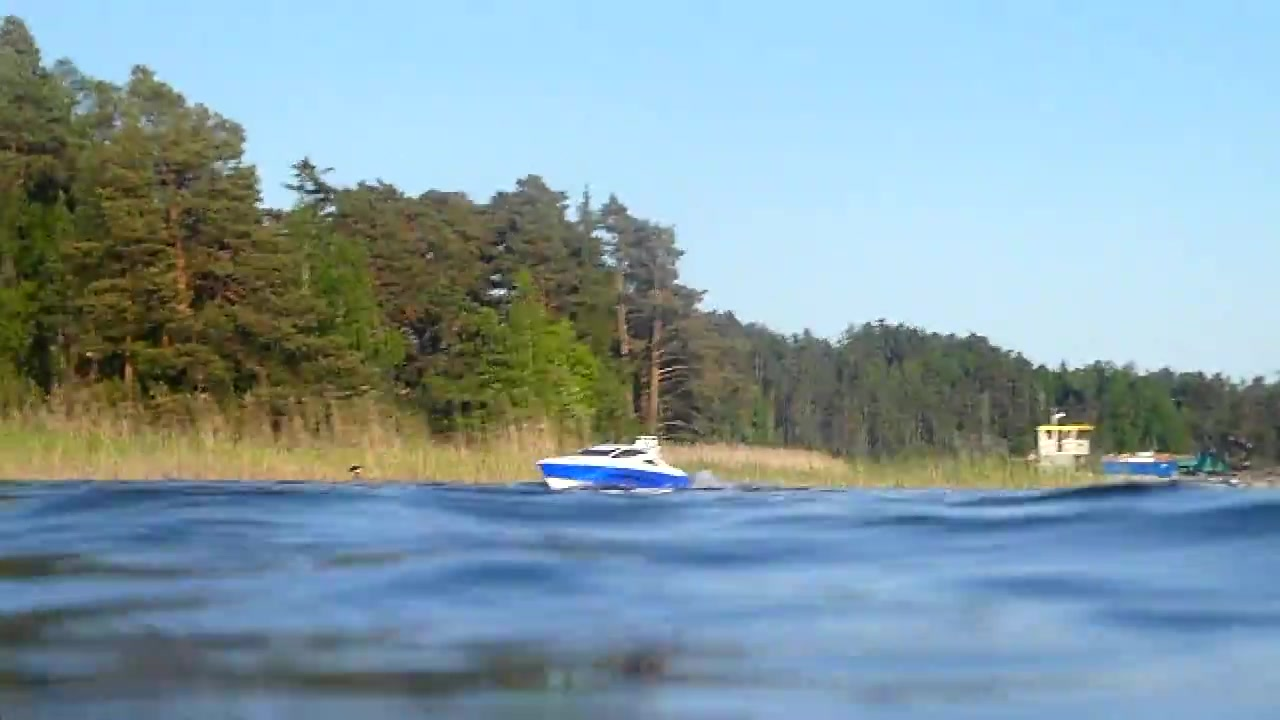boat: (536, 430, 695, 501)
